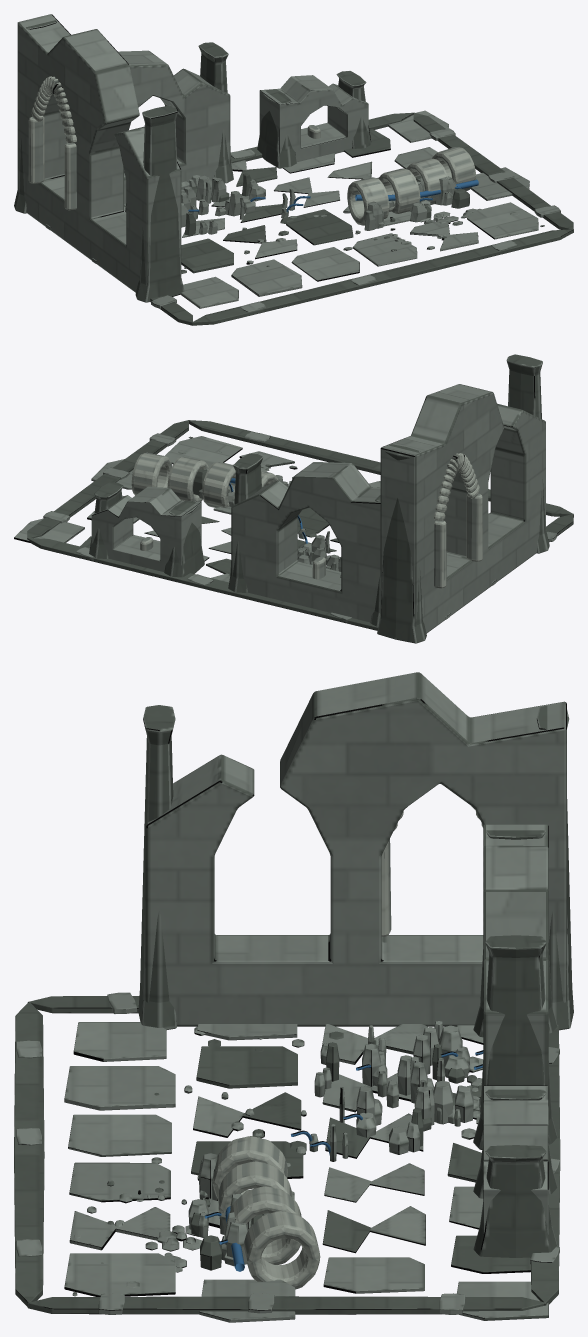
Rendered from transept.glb.
3 renders of one model, top to bottom at view 1: azimuth 30°, elevation 25°; view 2: azimuth 150°, elevation 25°; view 3: azimuth 270°, elevation 25°, orthographic. The views are drawn at different scales.
Parts seen in each view (by area): view 1: GT_0131_transept_Structure, GT_0131_transept_GroundContact; view 2: GT_0131_transept_Structure, GT_0131_transept_GroundContact; view 3: GT_0131_transept_Structure, GT_0131_transept_GroundContact.
Boxes of the visible parts, x1,y1,x2,y2 form: GT_0131_transept_Structure: (14,14,478,302); GT_0131_transept_GroundContact: (45,110,573,325); GT_0131_transept_Structure: (89,354,549,643); GT_0131_transept_GroundContact: (14,420,573,630); GT_0131_transept_Structure: (138,672,573,1289); GT_0131_transept_GroundContact: (14,992,560,1322).
Bounding box in the file's own units: 10.76 × 5.14 × 7.71.
Materials: 1 (1 with a texture image).
